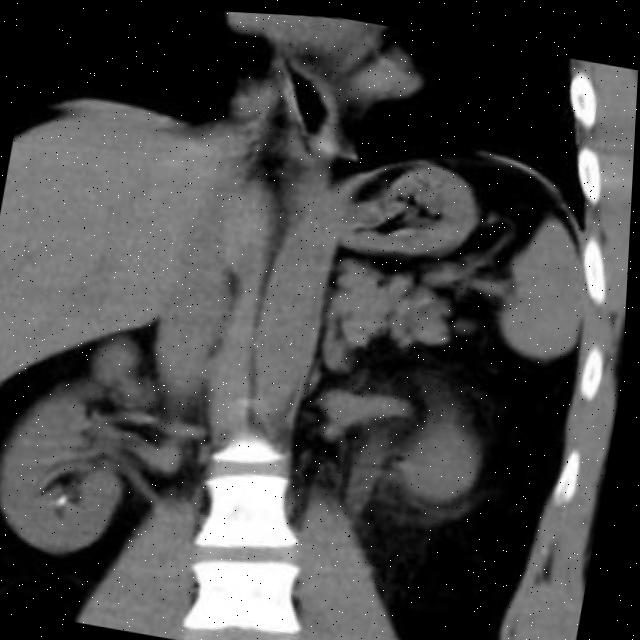Tas_Var: (60, 491, 79, 510)
